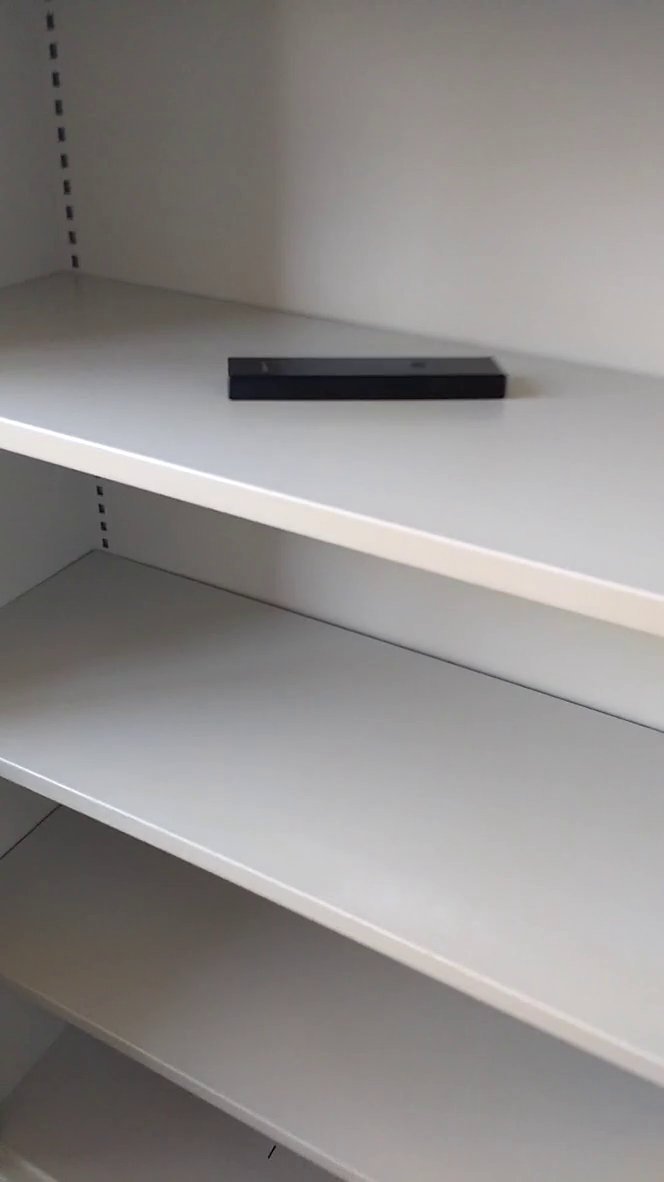remote: (216, 336, 521, 422)
